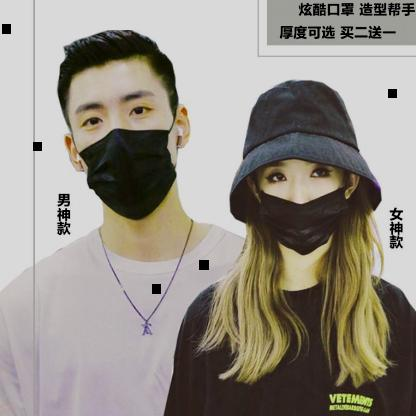mask: (48, 36, 206, 224), (232, 80, 388, 262)
